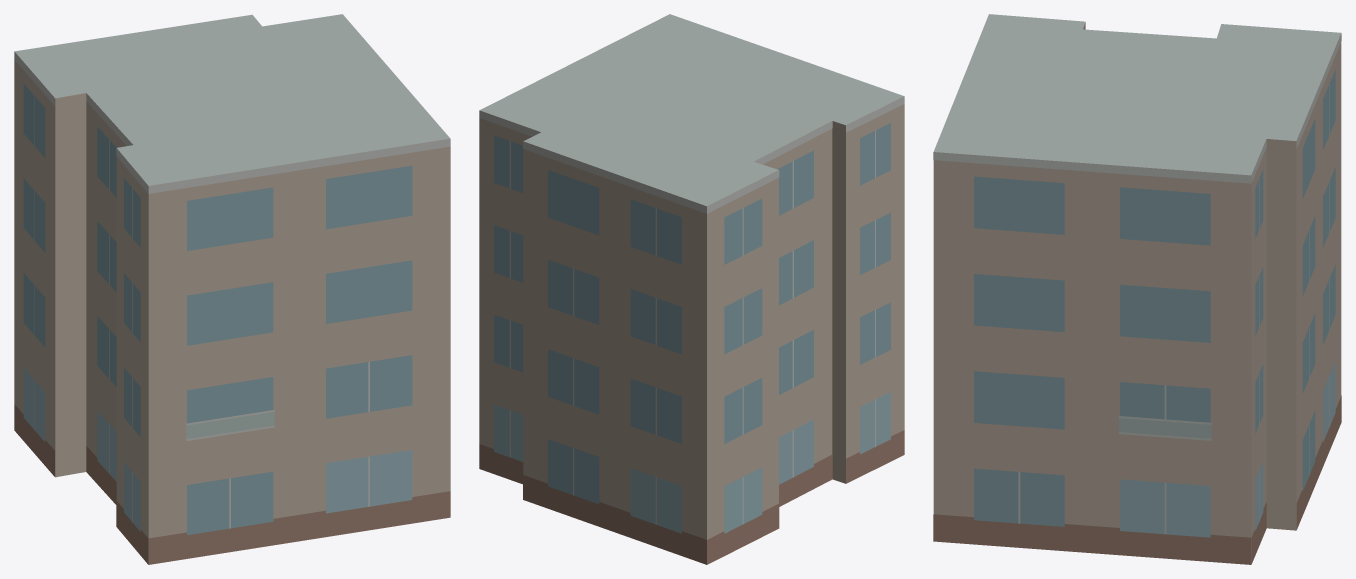
The model's file is survey-upis-32999156.glb.
The picture shows the model from 3 angles, left to right: view 1: azimuth 30°, elevation 25°; view 2: azimuth 150°, elevation 25°; view 3: azimuth 270°, elevation 25°; orthographic projection. The views are drawn at different scales.
Visible parts, largest first — view 1: survey-upis-32999156.tmp; view 2: survey-upis-32999156.tmp; view 3: survey-upis-32999156.tmp.
Boxes of the visible parts, x1=… form: survey-upis-32999156.tmp: x1=14, y1=14, x2=450, y2=564; survey-upis-32999156.tmp: x1=479, y1=14, x2=904, y2=564; survey-upis-32999156.tmp: x1=933, y1=14, x2=1341, y2=564.
Bounding box in the file's own units: 10.32 × 11.6 × 11.02.
